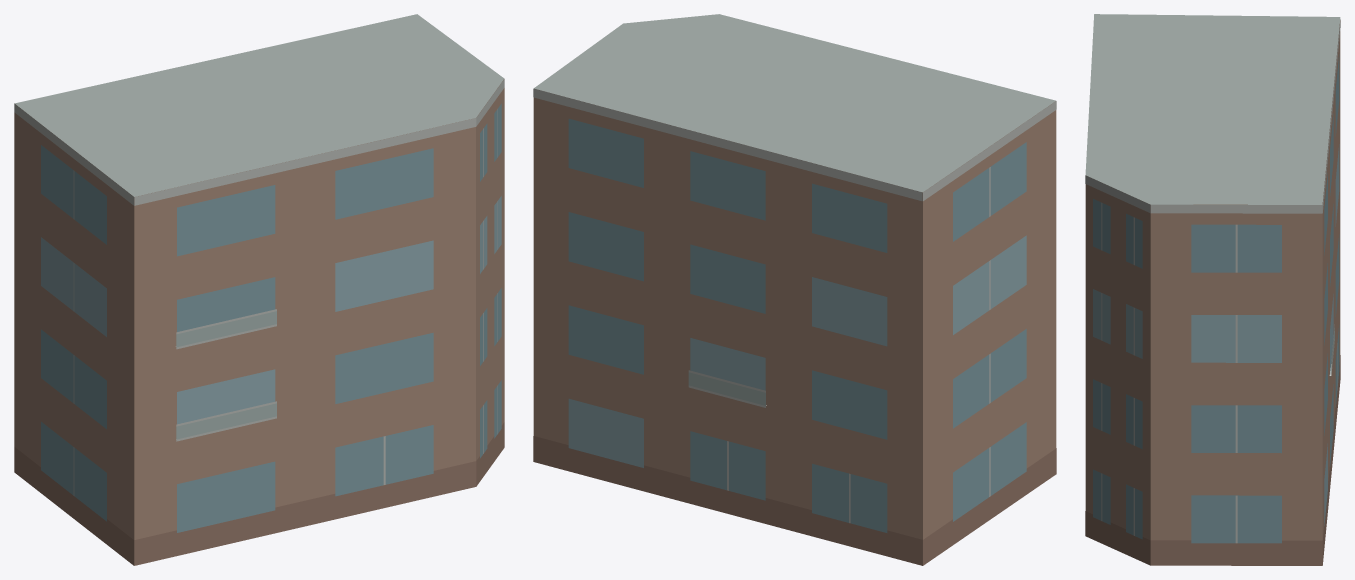
File: survey-upis-32675462.glb
The picture shows the model from 3 angles, left to right: view 1: azimuth 30°, elevation 25°; view 2: azimuth 150°, elevation 25°; view 3: azimuth 270°, elevation 25°; orthographic projection. The views are drawn at different scales.
Parts seen in each view (by area): view 1: survey-upis-32675462.tmp; view 2: survey-upis-32675462.tmp; view 3: survey-upis-32675462.tmp.
Part boxes in pixels (<box>): survey-upis-32675462.tmp: <box>14,14,504,565</box>; survey-upis-32675462.tmp: <box>533,14,1056,565</box>; survey-upis-32675462.tmp: <box>1085,14,1340,565</box>.
Bounding box in the file's own units: 11.47 × 10.1 × 6.48.
